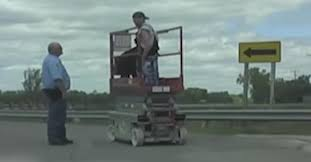Scissor Lift: (107, 25, 189, 149)
